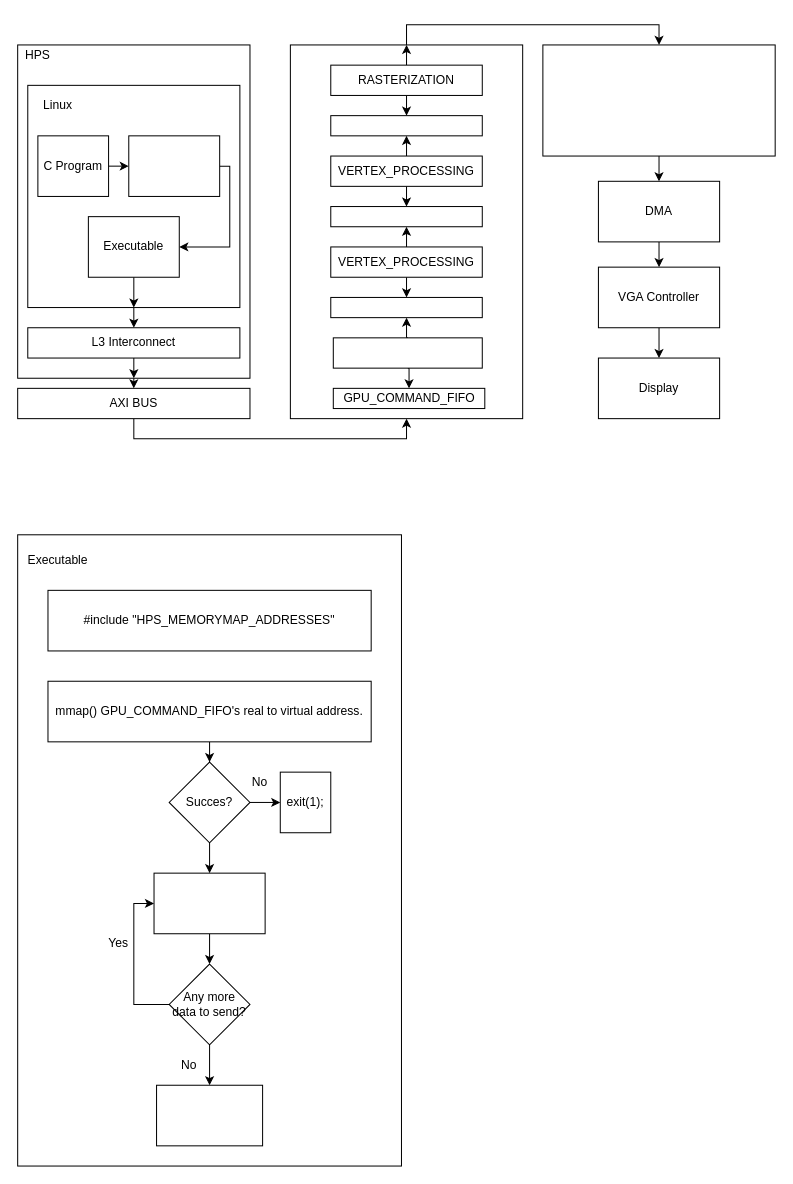
This 793x1184 diagram has some shape labels left out. The shapes that lost their labels are listed below. From the top down, each one's centre as x and y in pixels, then its label:
At point (658, 100): "RAM".
At point (406, 125): "RASTER_FIFO".
At point (174, 165): "GCC ARM Toolchain".
At point (406, 216): "PRIM_ASSEMBLY_FIFO".
At point (406, 307): "V.PROC_FIFO".
At point (407, 352): "MAIN_STATE_MACHINE".
At point (209, 903): "Write to the memory location returned by mmap()".
At point (209, 1115): "return 0;".
